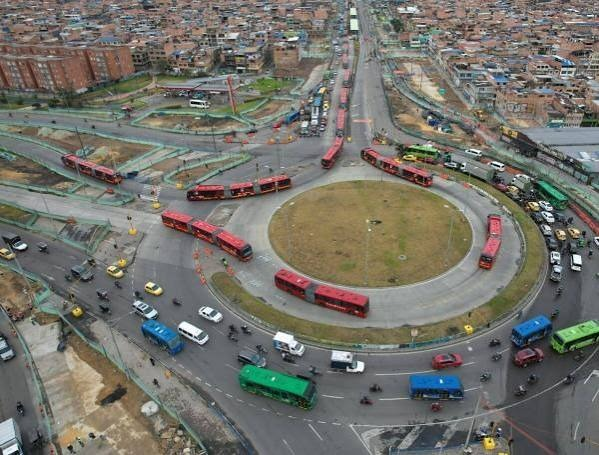car: (232, 360, 318, 412), (235, 360, 321, 411), (138, 317, 197, 354)
